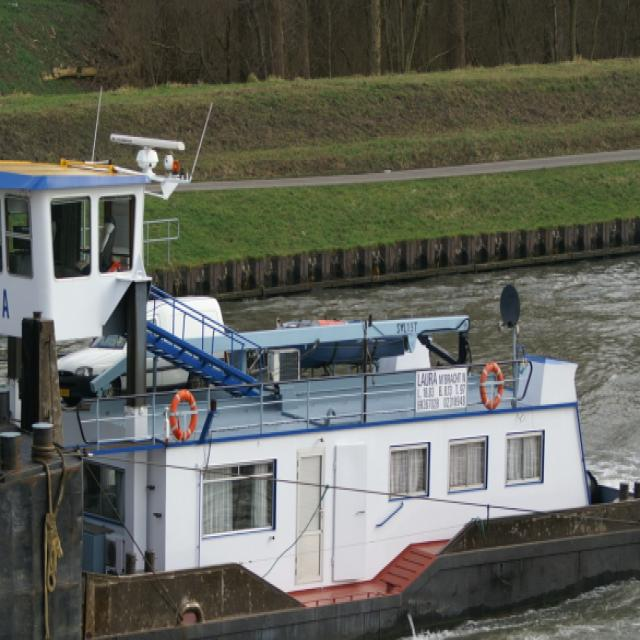tugboat: (1, 83, 640, 640)
